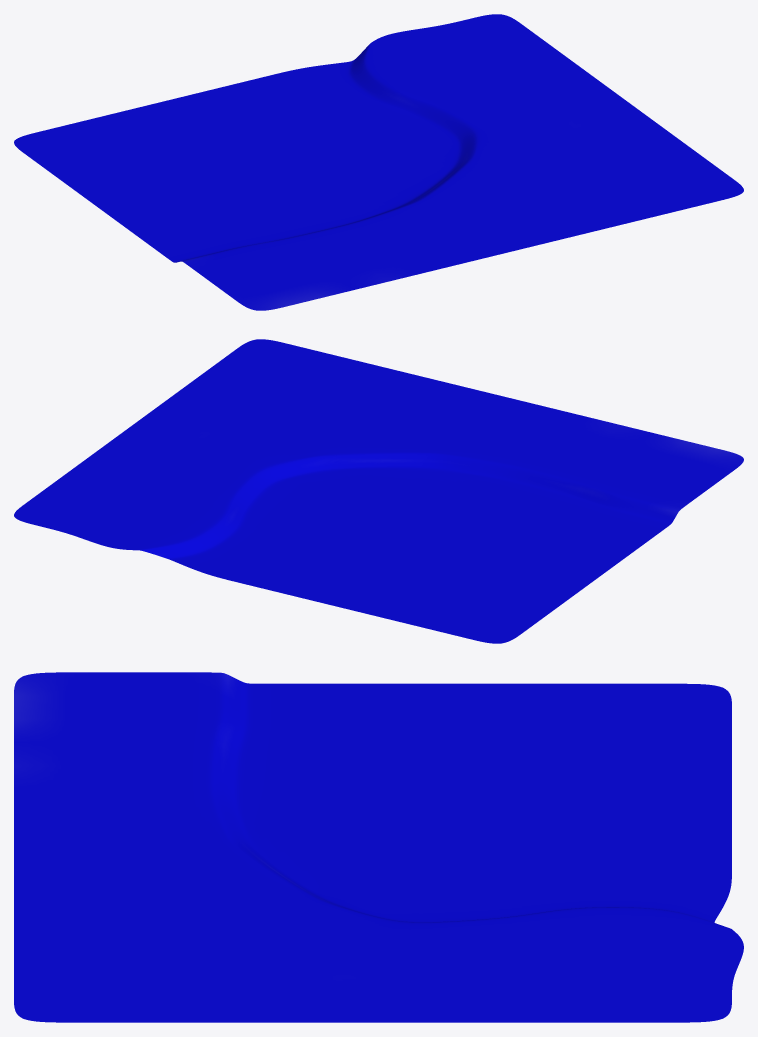
File: level_1_ground_2.fbx
3 renders of one model, top to bottom at view 1: azimuth 30°, elevation 25°; view 2: azimuth 150°, elevation 25°; view 3: azimuth 270°, elevation 25°, orthographic. The views are drawn at different scales.
Parts seen in each view (by area): view 1: Plane.001; view 2: Plane.001; view 3: Plane.001.
Part boxes in pixels (x1,y1,x2,y2): Plane.001: [14, 14, 743, 310]; Plane.001: [14, 339, 743, 643]; Plane.001: [14, 672, 743, 1022].
Bounding box in the file's own units: 3919 × 4448 × 67.26.
